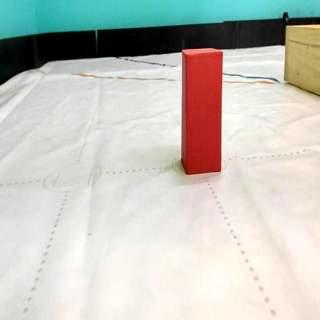redbox: (182, 48, 224, 176)
